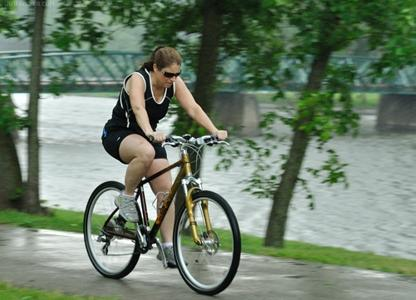person: (101, 46, 232, 270)
